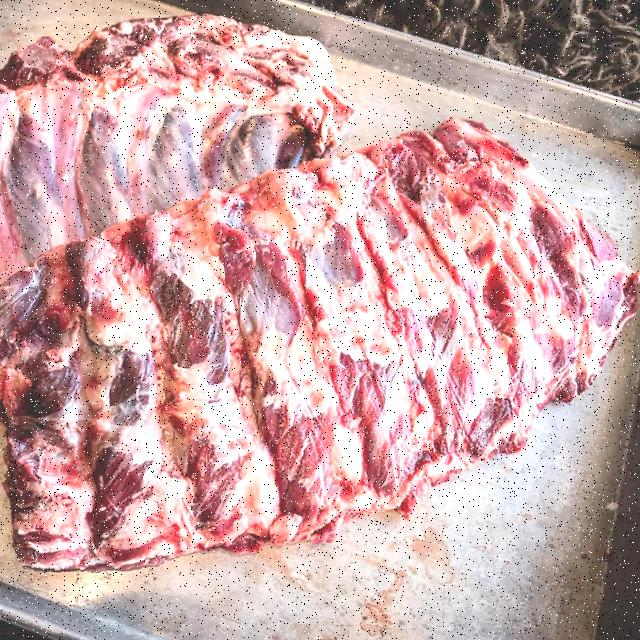Buffalo Meat: (248, 31, 640, 503), (49, 296, 480, 533), (16, 38, 351, 256)
